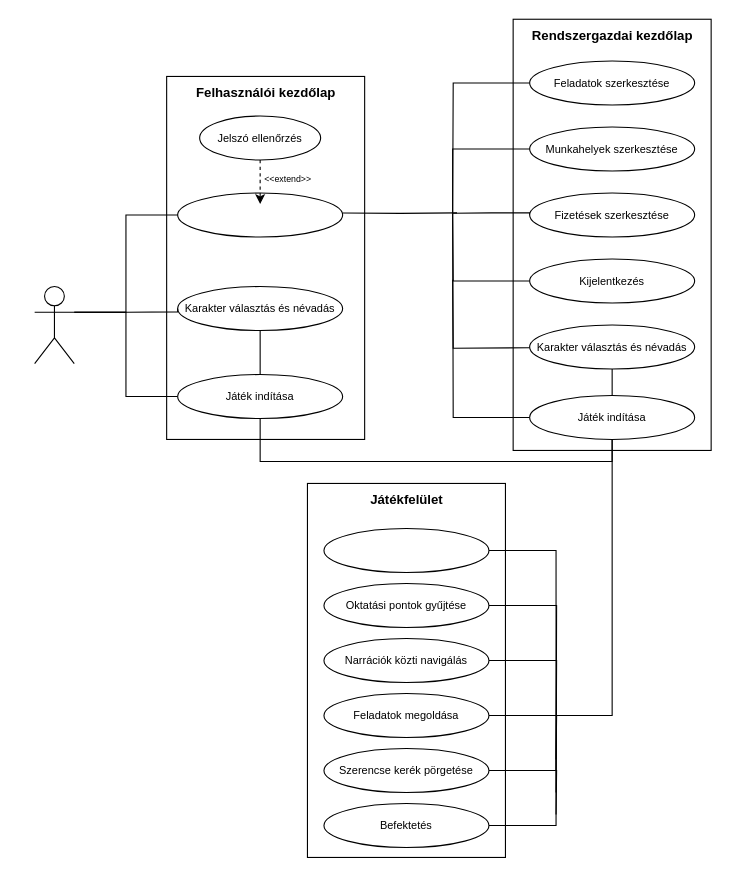
The diagram is 730 pixels wide and 877 high, and some of its shapes have lost their labels. Each missing label, with the centre of its shape:
"Bejelentkezés" goes at (260,214).
"Döntések hozása" goes at (406,550).
"Felhasználó" goes at (54,324).
